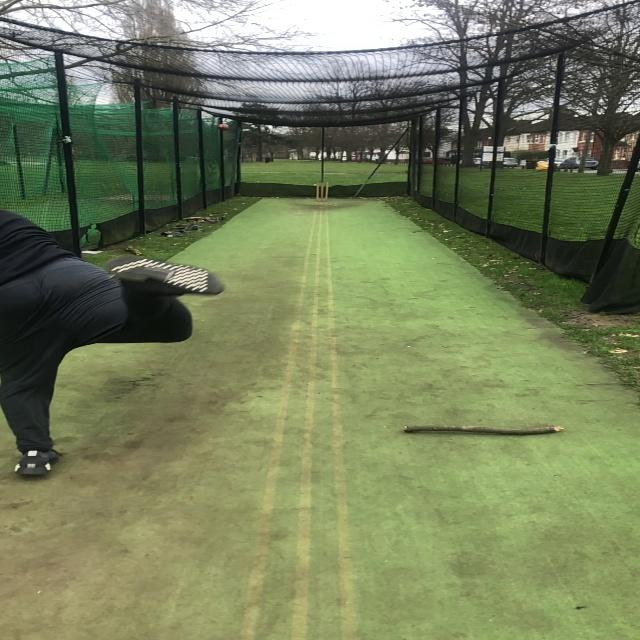ball: (217, 124, 230, 132)
